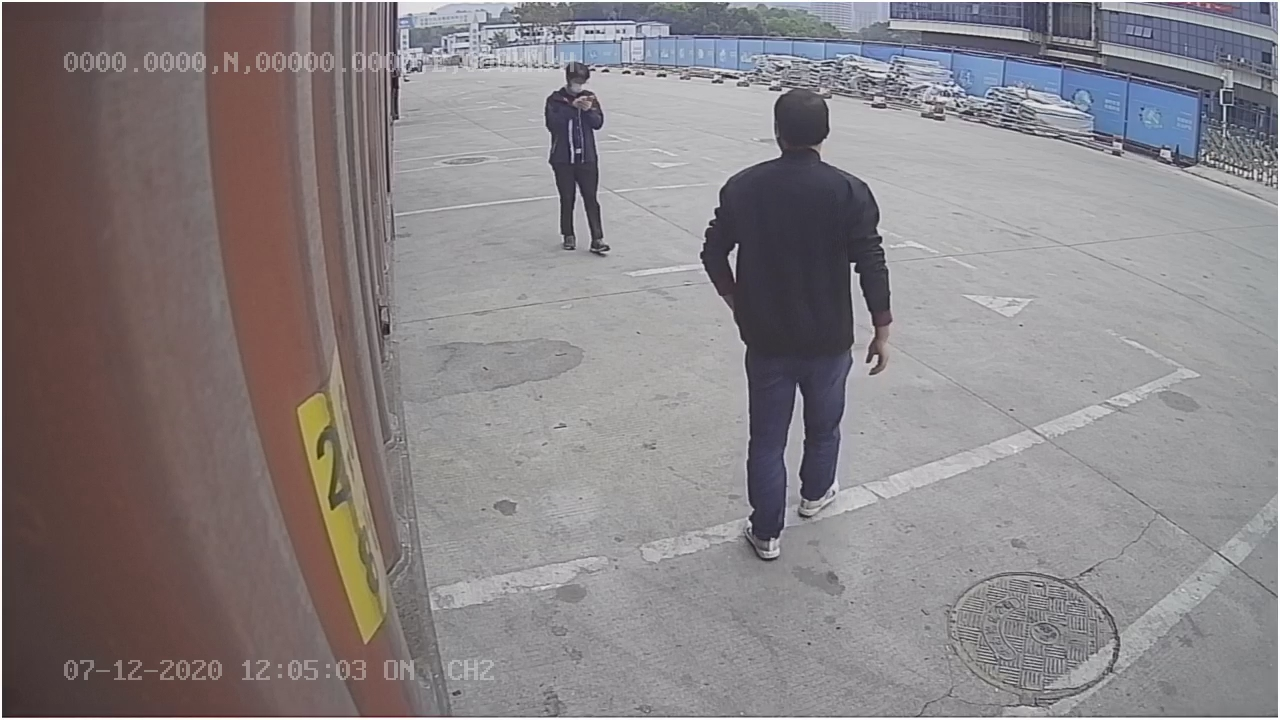person: (701, 86, 898, 558)
